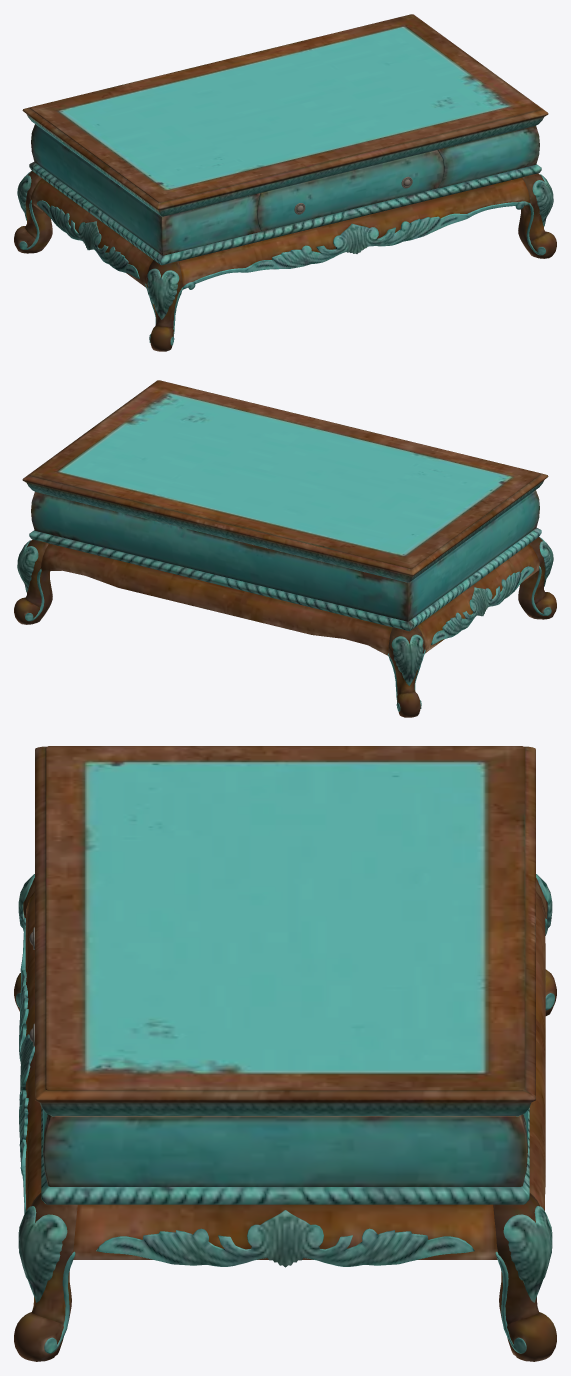
Rendered from coffeetable_01.glb.
3 renders of one model, top to bottom at view 1: azimuth 30°, elevation 25°; view 2: azimuth 150°, elevation 25°; view 3: azimuth 270°, elevation 25°, orthographic. The views are drawn at different scales.
Parts seen in each view (by area): view 1: CoffeeTable_01; view 2: CoffeeTable_01; view 3: CoffeeTable_01.
Boxes of the visible parts, x1,y1,x2,y2 form: CoffeeTable_01: (14, 14, 556, 351); CoffeeTable_01: (14, 380, 556, 717); CoffeeTable_01: (14, 746, 556, 1361).
Size of the model in its own units: 1.54 by 0.5232 by 0.9728.
1 material, 1 textured.
